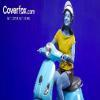motorcycles: (34, 39, 84, 100)
